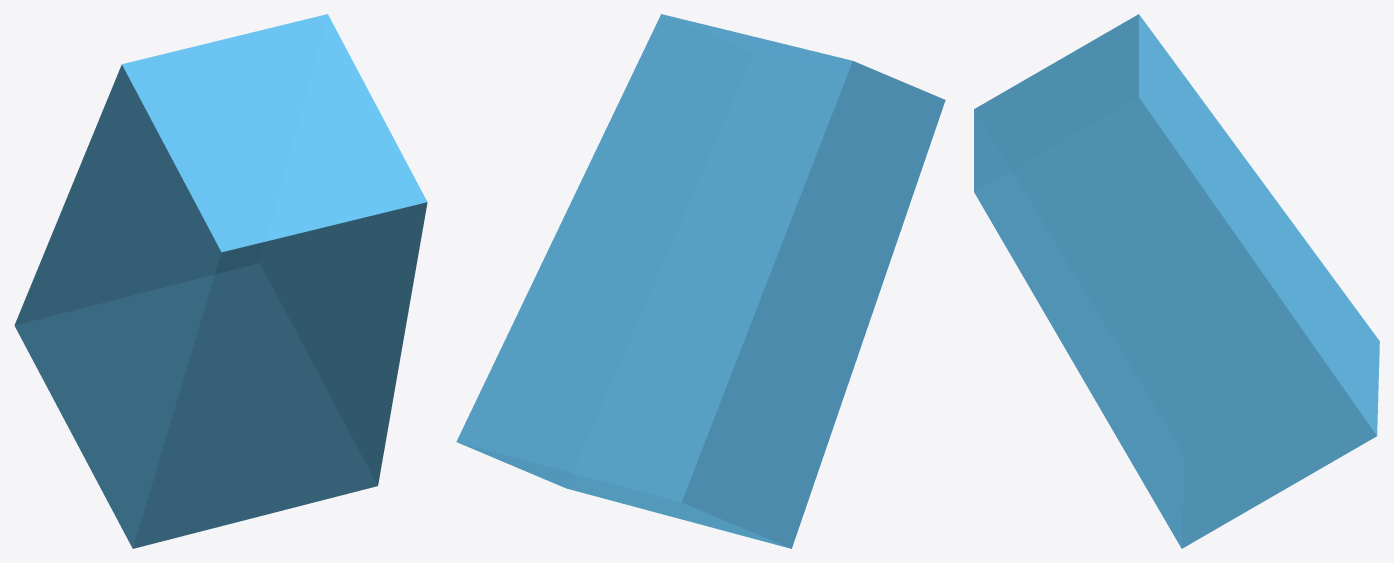
Rendered from Event_421278790_HBrechit_17.fbx.
3 views of the same model, side by side, from view 1: azimuth 30°, elevation 25°; view 2: azimuth 150°, elevation 25°; view 3: azimuth 270°, elevation 25° (orthographic). The views are drawn at different scales.
Visible parts, largest first — view 1: Model; view 2: Model; view 3: Model.
Part boxes in pixels (x1=…): Model: x1=14, y1=14, x2=427, y2=548; Model: x1=456, y1=14, x2=945, y2=548; Model: x1=974, y1=14, x2=1379, y2=548.
Bounding box in the file's own units: 0.5534 × 0.9635 × 0.834.
